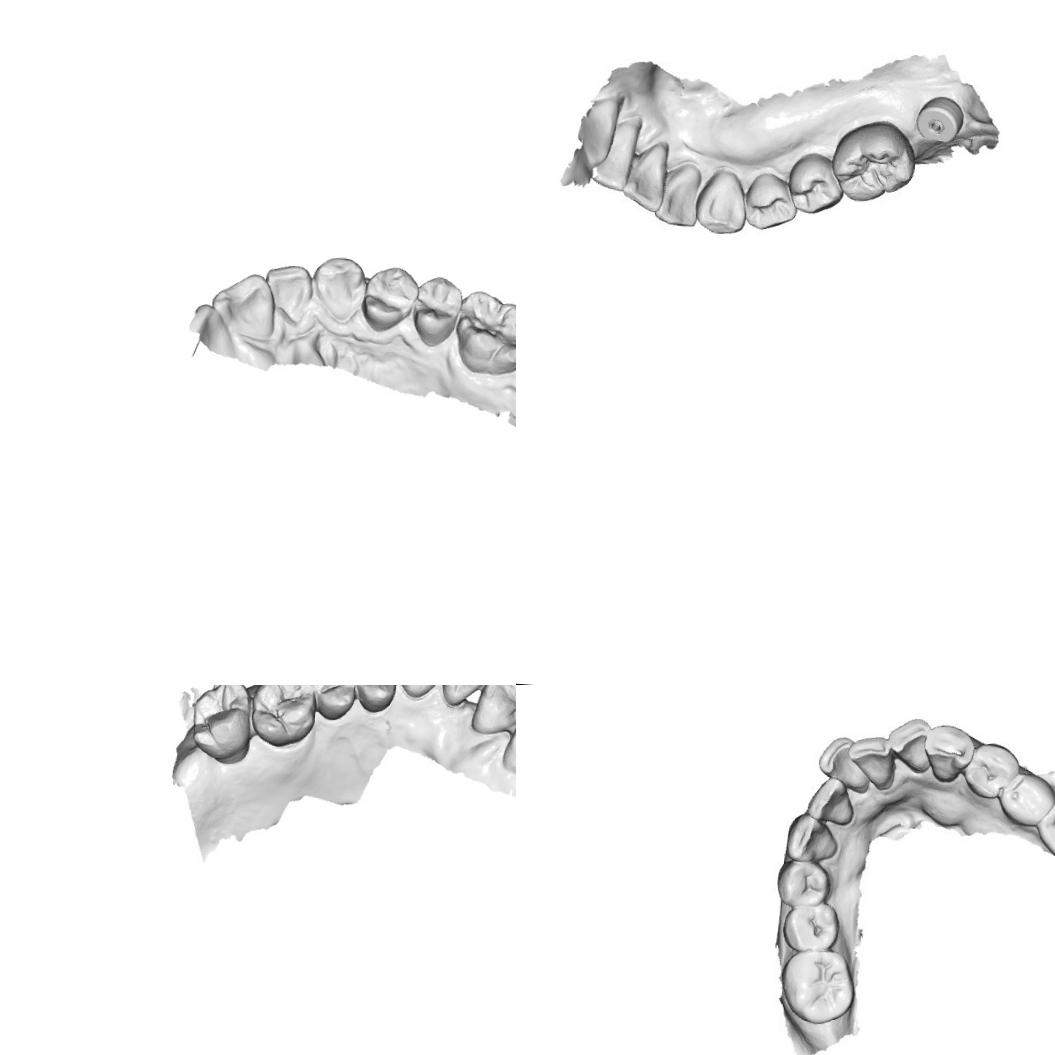canine: (694, 164, 751, 241), (309, 252, 368, 326), (779, 809, 843, 865), (922, 721, 975, 788), (391, 685, 450, 702)
implant: (914, 92, 964, 146)
incisor: (207, 269, 278, 343), (588, 116, 638, 196), (623, 139, 672, 215), (814, 730, 870, 792), (260, 259, 312, 322), (845, 732, 897, 792), (884, 714, 932, 777), (466, 685, 516, 739), (658, 160, 700, 224), (808, 777, 858, 824), (437, 685, 495, 710), (498, 707, 516, 777)
molar: (829, 114, 914, 208), (778, 947, 856, 1028), (449, 286, 516, 377), (184, 685, 256, 764), (244, 685, 320, 751), (1036, 799, 1055, 869)
premolar: (358, 262, 419, 334), (407, 272, 464, 348), (781, 148, 844, 216), (737, 166, 796, 230), (960, 742, 1023, 800), (781, 900, 842, 955), (998, 772, 1054, 828), (773, 858, 828, 910), (303, 685, 358, 723), (346, 685, 403, 717)
